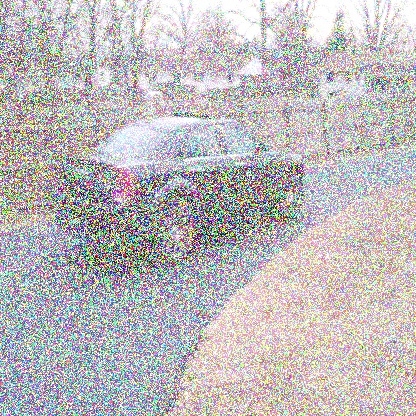Vehicle: (50, 109, 307, 266)
